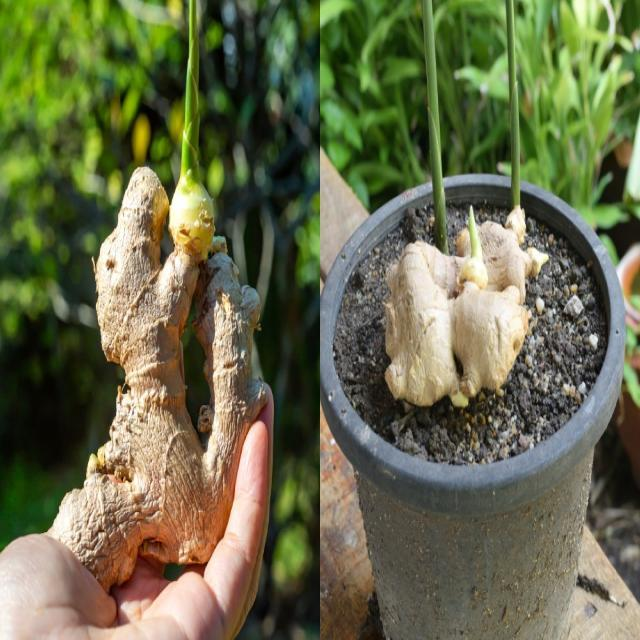ginger: (52, 154, 270, 584), (382, 229, 533, 416)
